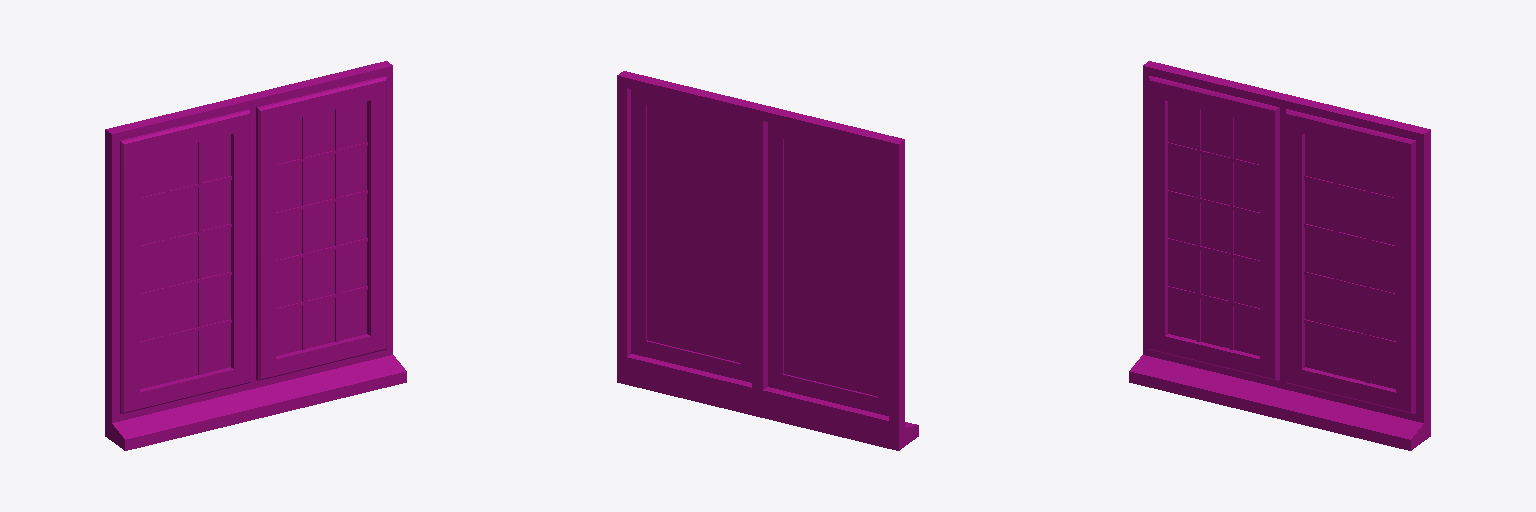
The model's file is win2.obj.
The picture shows the model from 3 angles: view 1: azimuth 30°, elevation 25°; view 2: azimuth 150°, elevation 25°; view 3: azimuth 330°, elevation 25°; orthographic projection.
Visible parts, largest first — view 1: window2_dxf_001; view 2: window2_dxf_001; view 3: window2_dxf_001.
Part boxes in pixels (x1,y1,x2,y2): window2_dxf_001: (105, 61, 406, 450); window2_dxf_001: (617, 71, 918, 450); window2_dxf_001: (1129, 61, 1430, 450).
Size of the model in its own units: 1199 by 1250 by 150.